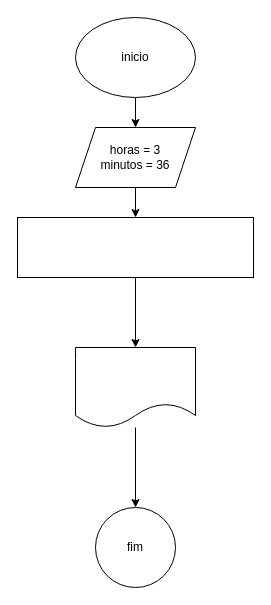
Image size: 271x605. Some labels were removed from this diagram. Each missing label, with the centre of its shape:
"resultado" goes at point 135,387.
"segundos = (minutos/60)+horas" goes at point 135,247.
